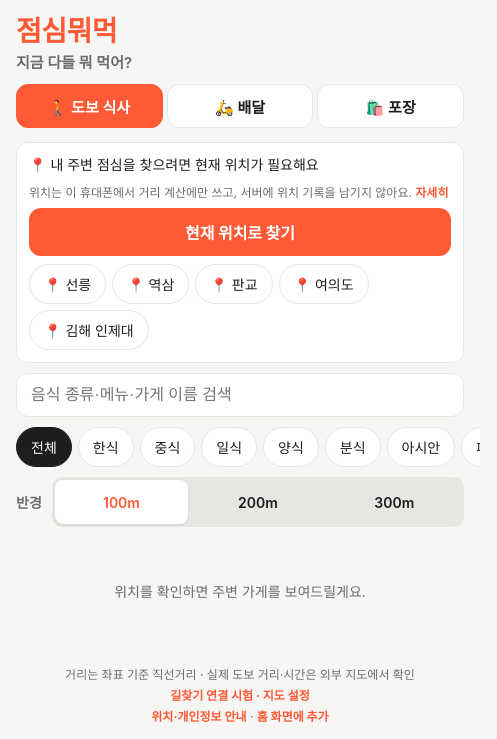
Scenario: 8단계 — 시범 서비스 점검 › 위치 없이 지역을 직접 골라도 검색할 수 있다 (역삼 포함, 출발지로는 쓰지 않음)
This screenshot has width=497, height=739.
Click the button "📍 역삼".
click(151, 284)  # box [112,264,189,304]
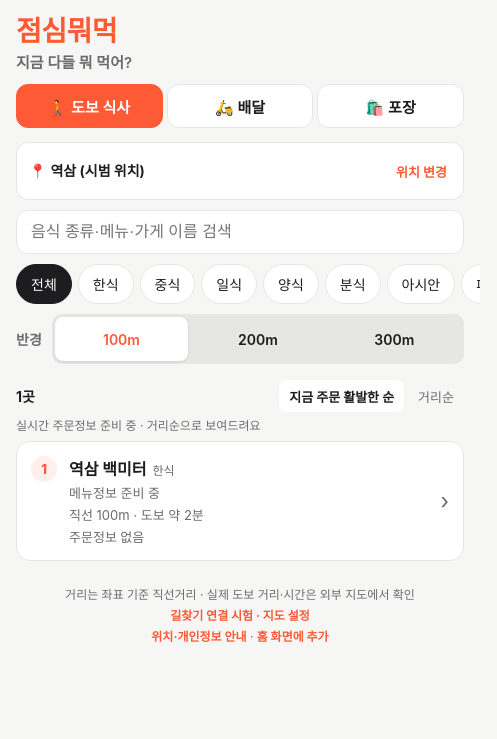
Result: the text "역삼 (시범 위치)" is shown at [50,162,145,179]
